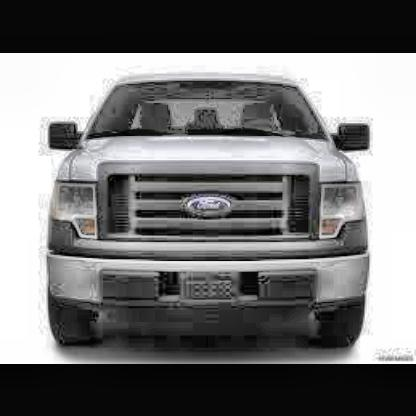Ford F-150 Regular Cab 2012: (42, 74, 376, 364)
